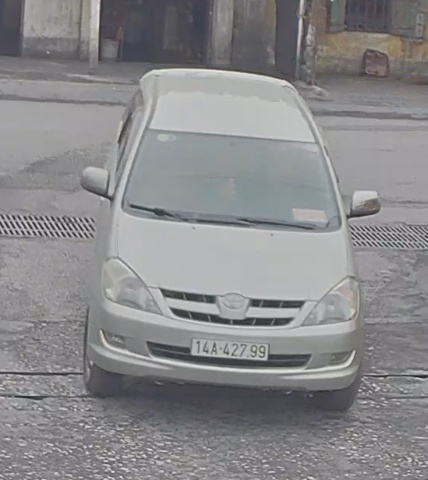vehicle plate: (188, 333, 270, 363)
